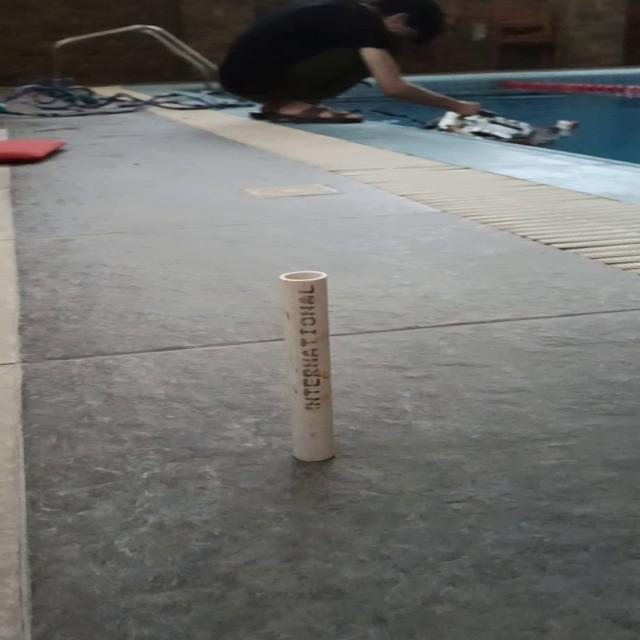Cube: (274, 268, 338, 462)
